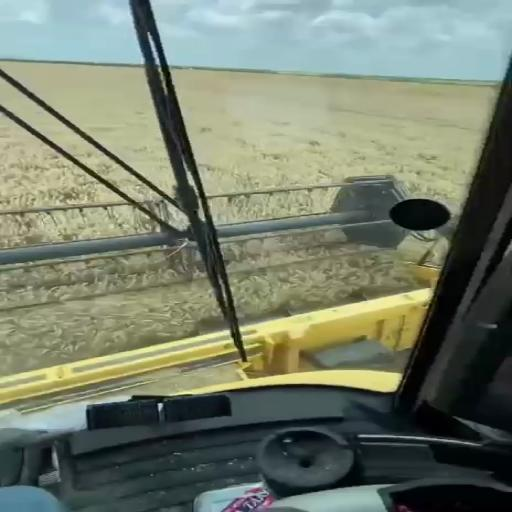bugday: (173, 70, 491, 208), (1, 63, 171, 188), (1, 83, 151, 195), (2, 118, 115, 207), (212, 191, 332, 223)
